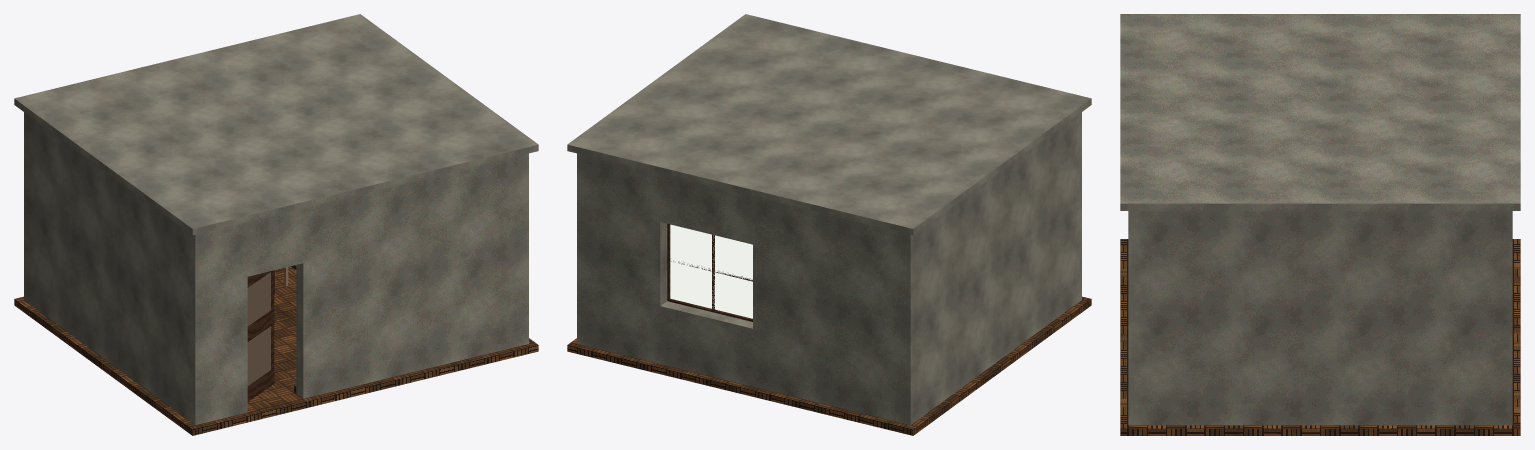
The model's file is ep_treinador.glb.
3 renders of one model, left to right at view 1: azimuth 30°, elevation 25°; view 2: azimuth 150°, elevation 25°; view 3: azimuth 270°, elevation 25°, orthographic. The views are drawn at different scales.
Visible parts, largest first — view 1: plaster-col, parquet_square-col, flat, wood_dark; view 2: plaster-col, flat.002, parquet_square-col, wood_dark; view 3: plaster-col, parquet_square-col.
Boxes of the visible parts, bbox=[...] form: plaster-col: bbox=[14, 14, 538, 425]; parquet_square-col: bbox=[14, 266, 538, 435]; flat: bbox=[247, 272, 270, 385]; wood_dark: bbox=[247, 270, 296, 401]; plaster-col: bbox=[567, 14, 1091, 425]; flat.002: bbox=[670, 224, 752, 318]; parquet_square-col: bbox=[567, 296, 1091, 435]; wood_dark: bbox=[667, 224, 752, 321]; plaster-col: bbox=[1120, 14, 1520, 425]; parquet_square-col: bbox=[1120, 239, 1520, 435].
Bounding box in the file's own units: 5.6 × 3.2 × 5.
Materials: 33 (10 with a texture image).
